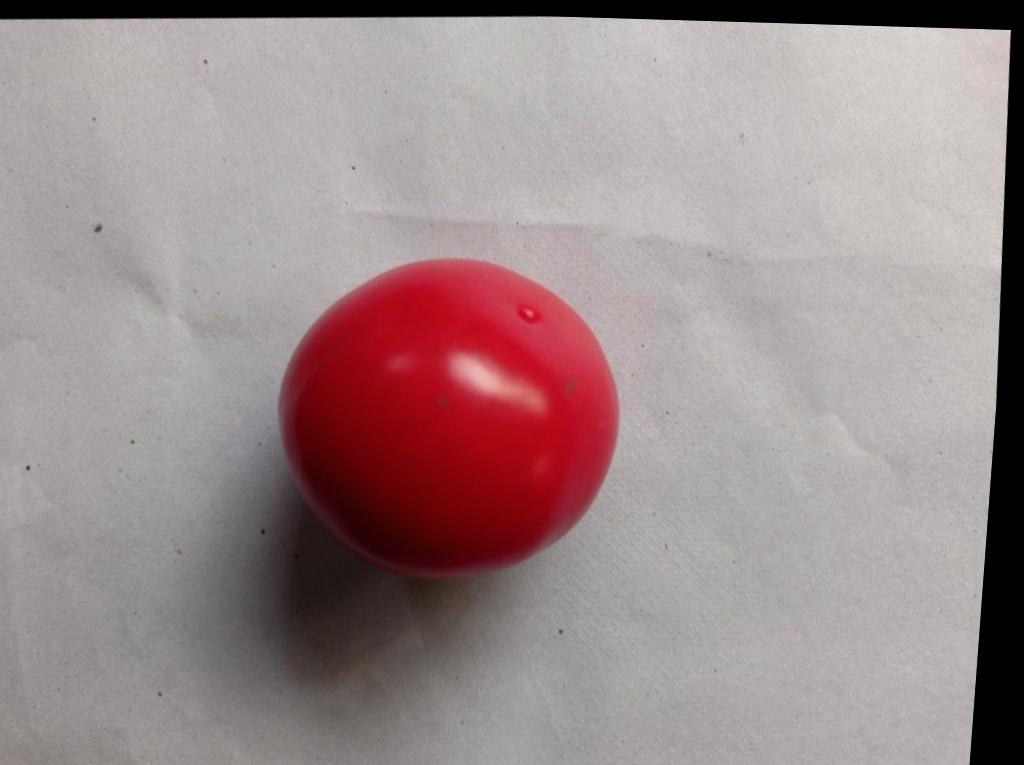tomato: (279, 258, 618, 576)
